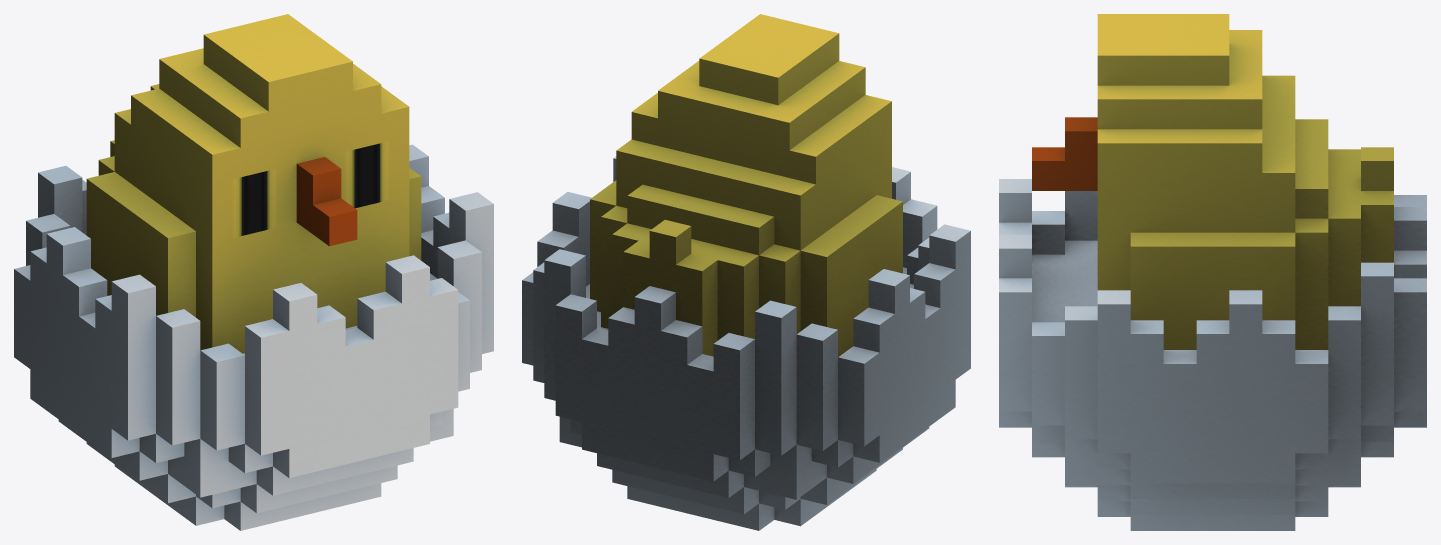
The model's file is PioPio.fbx.
3 views of the same model, side by side, from view 1: azimuth 30°, elevation 25°; view 2: azimuth 150°, elevation 25°; view 3: azimuth 270°, elevation 25° (orthographic). The views are drawn at different scales.
Parts seen in each view (by area): view 1: PioPio; view 2: PioPio; view 3: PioPio.
Part boxes in pixels (x1,y1,x2,y2): PioPio: (14, 14, 493, 530); PioPio: (522, 14, 970, 530); PioPio: (999, 14, 1426, 530).
Bounding box in the file's own units: 13 × 15 × 13.
